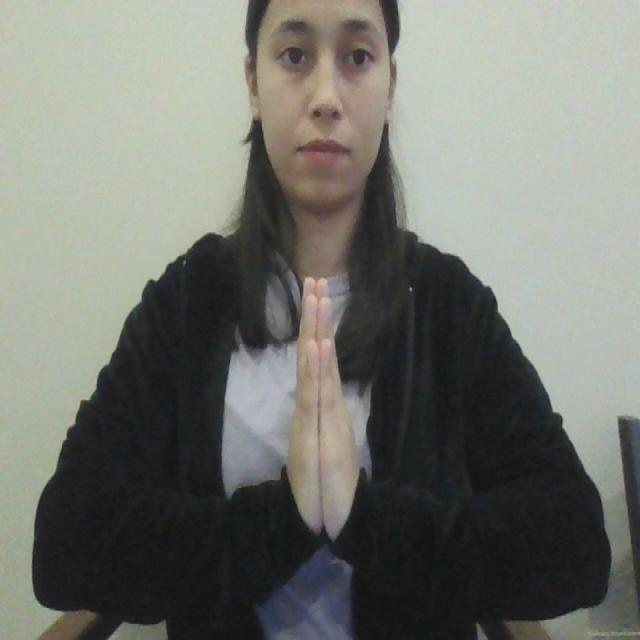Ozur-Dilemek: (281, 271, 366, 553)
